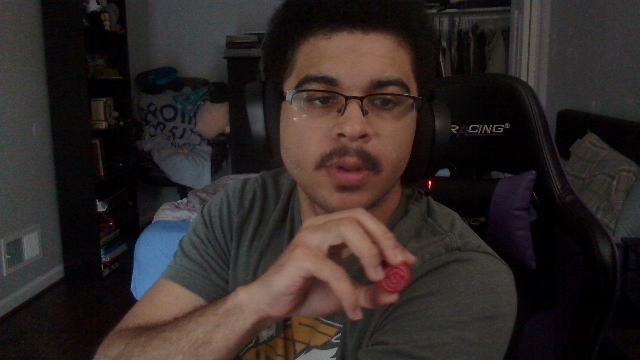cap: (376, 259, 410, 293)
